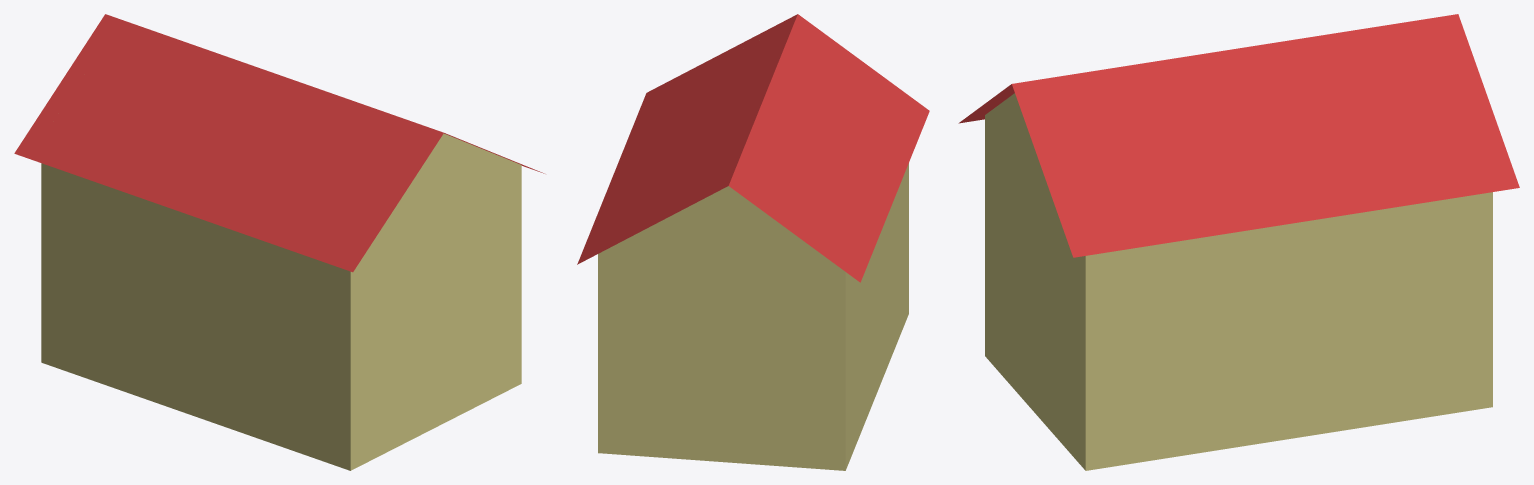
3 views of the same model, side by side, from view 1: azimuth 30°, elevation 25°; view 2: azimuth 150°, elevation 25°; view 3: azimuth 270°, elevation 25° (orthographic). The views are drawn at different scales.
Size of the model in its own units: 17.05 by 20.1 by 12.96.
